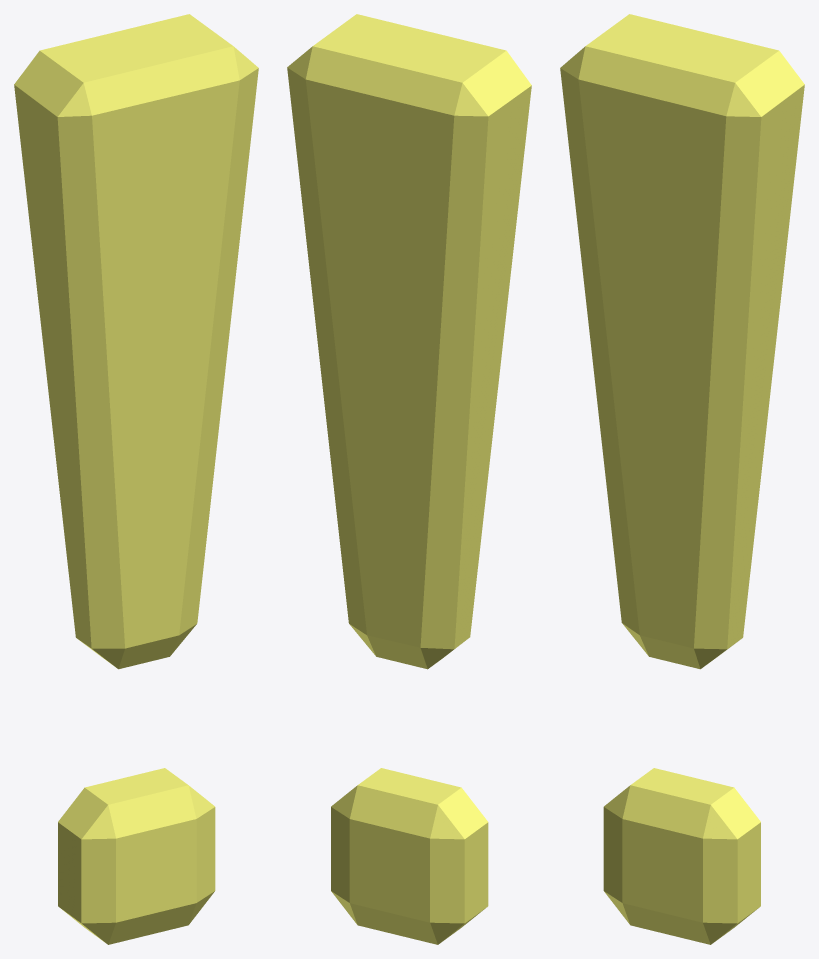
The model's file is Exclamation_mark_3.fbx.
3 views of the same model, side by side, from view 1: azimuth 30°, elevation 25°; view 2: azimuth 150°, elevation 25°; view 3: azimuth 330°, elevation 25° (orthographic).
Parts seen in each view (by area): view 1: Exclamation_mark_3; view 2: Exclamation_mark_3; view 3: Exclamation_mark_3.
Part boxes in pixels (x1=…): Exclamation_mark_3: x1=14, y1=14, x2=258, y2=944; Exclamation_mark_3: x1=287, y1=14, x2=531, y2=944; Exclamation_mark_3: x1=560, y1=14, x2=804, y2=944.
Bounding box in the file's own units: 0.5656 × 2.36 × 0.288.
